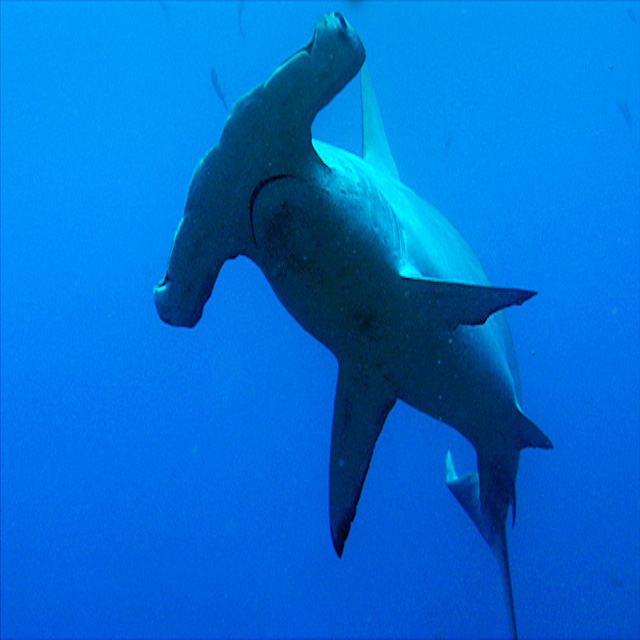hammerhead: (133, 22, 475, 334)
